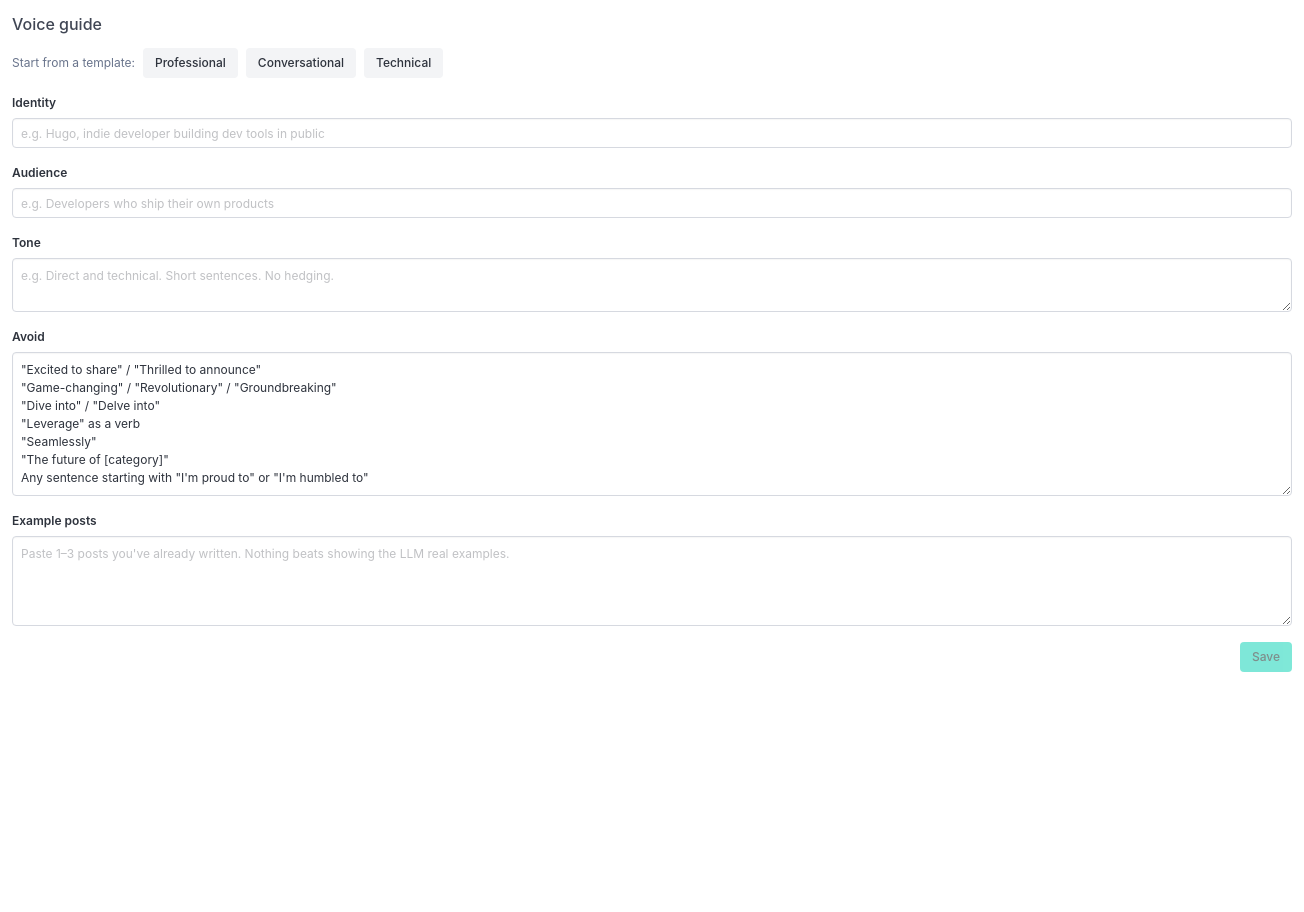
Test: VoiceGuideBlock — save › shows success message after save
In the field labelled "Identity": (652, 133) [12, 118, 1292, 148], type "My org"
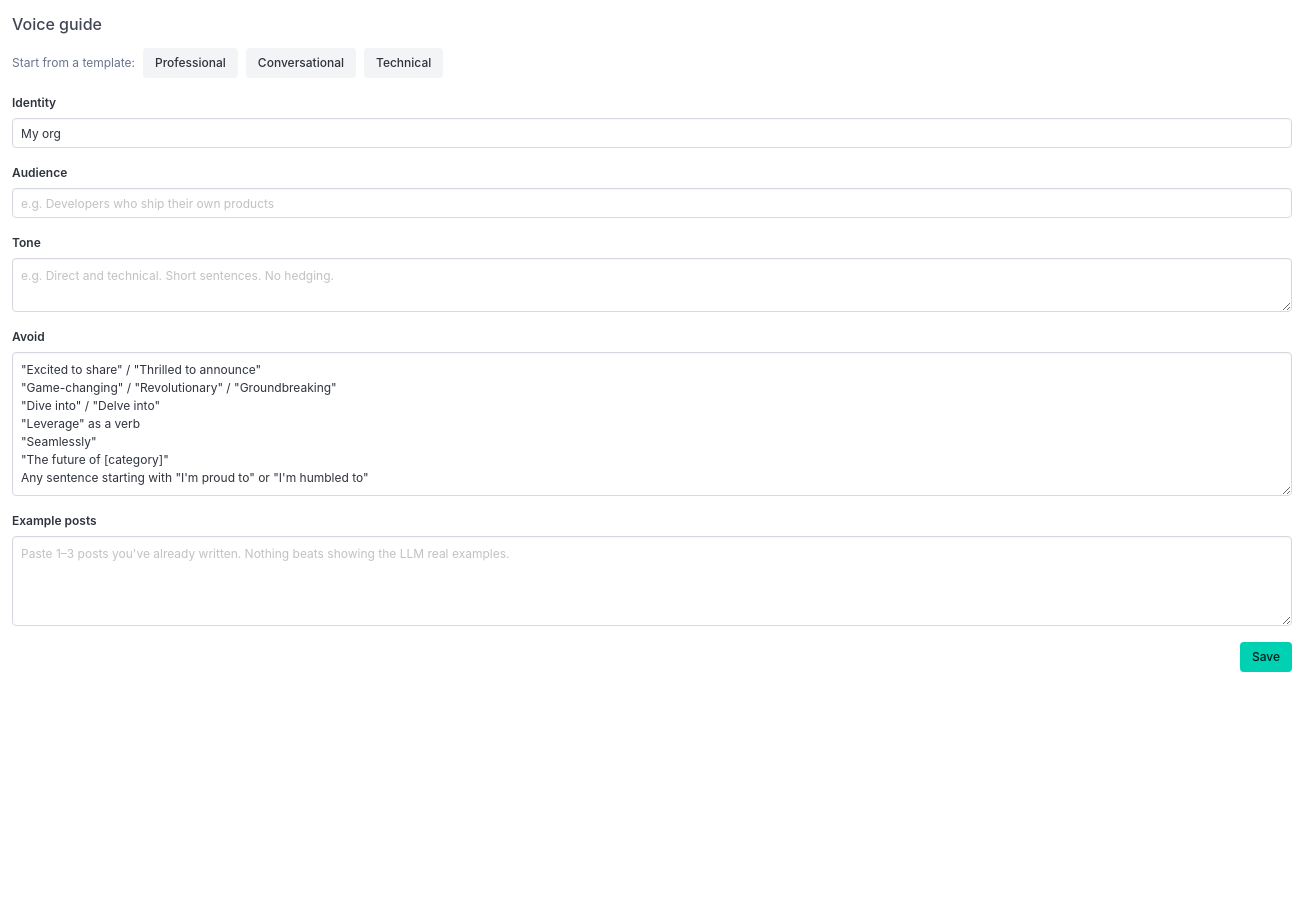
Click the button "Save": (1266, 657) [1240, 642, 1292, 672]
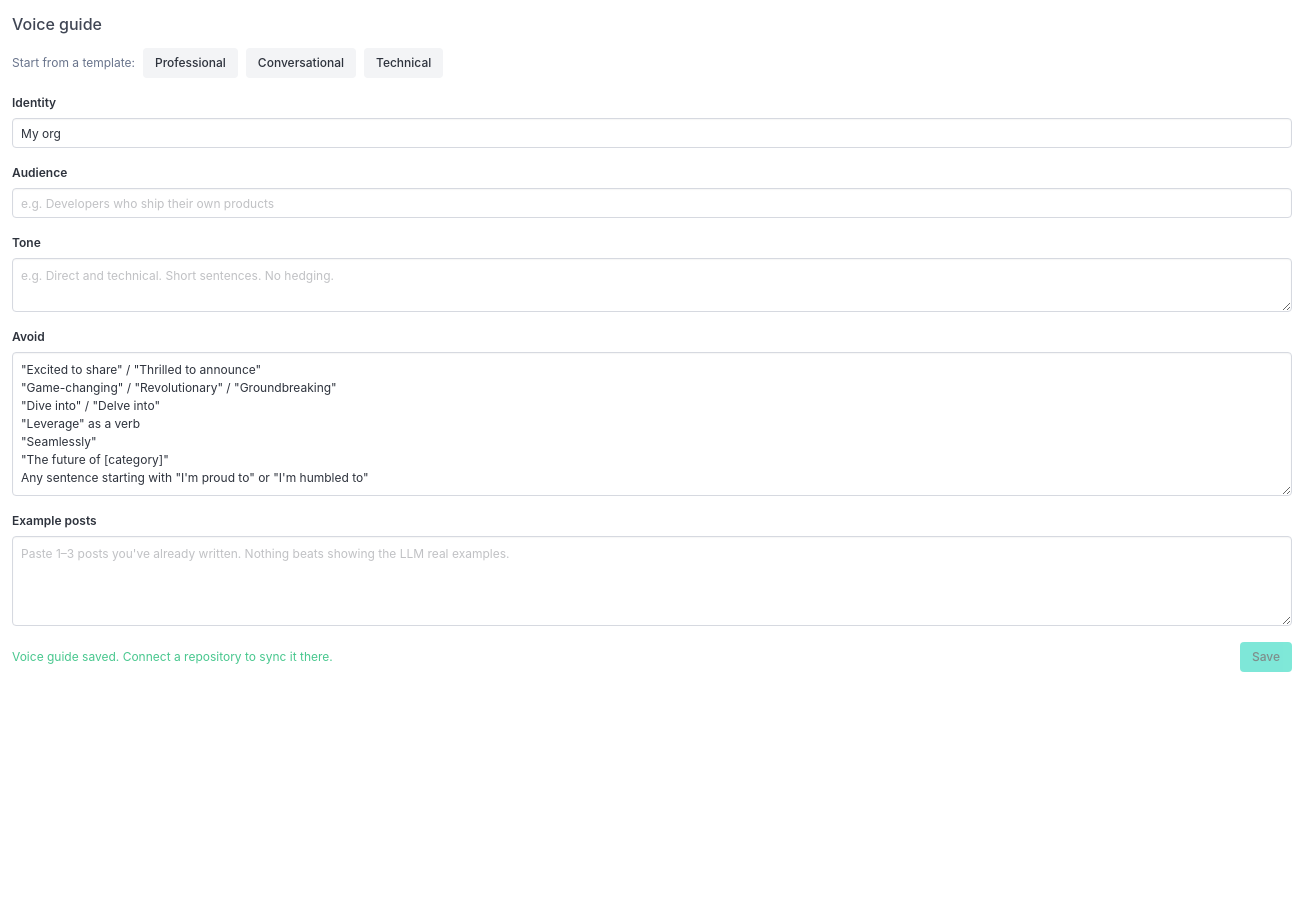
Result: the text "Voice guide saved. Connect a repository to sync it there." is shown at [12, 648, 333, 666]
